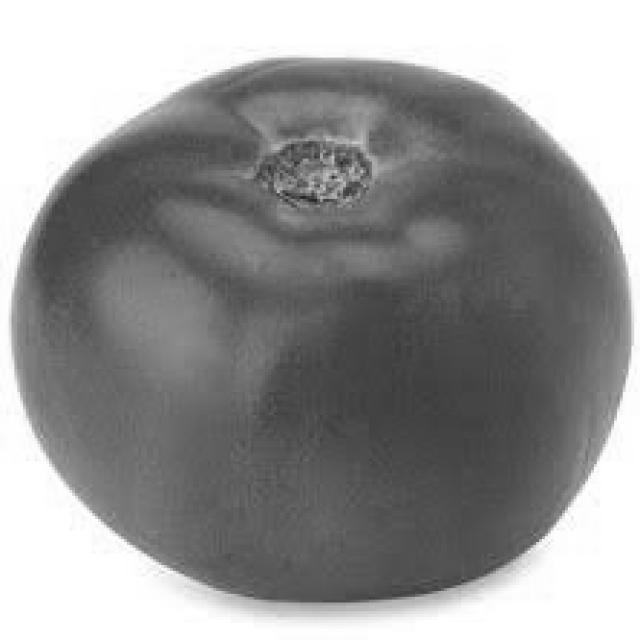Fresh_tomato: (14, 63, 635, 588)
